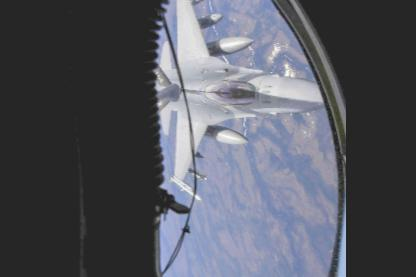F14: (154, 0, 325, 199)
